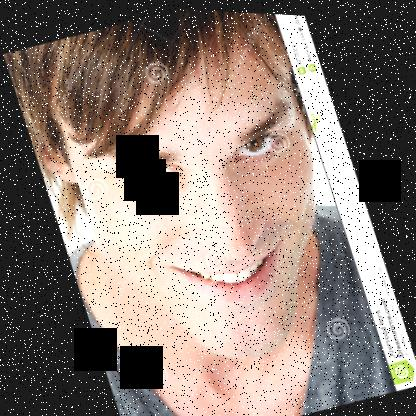Male: (25, 20, 376, 400)
